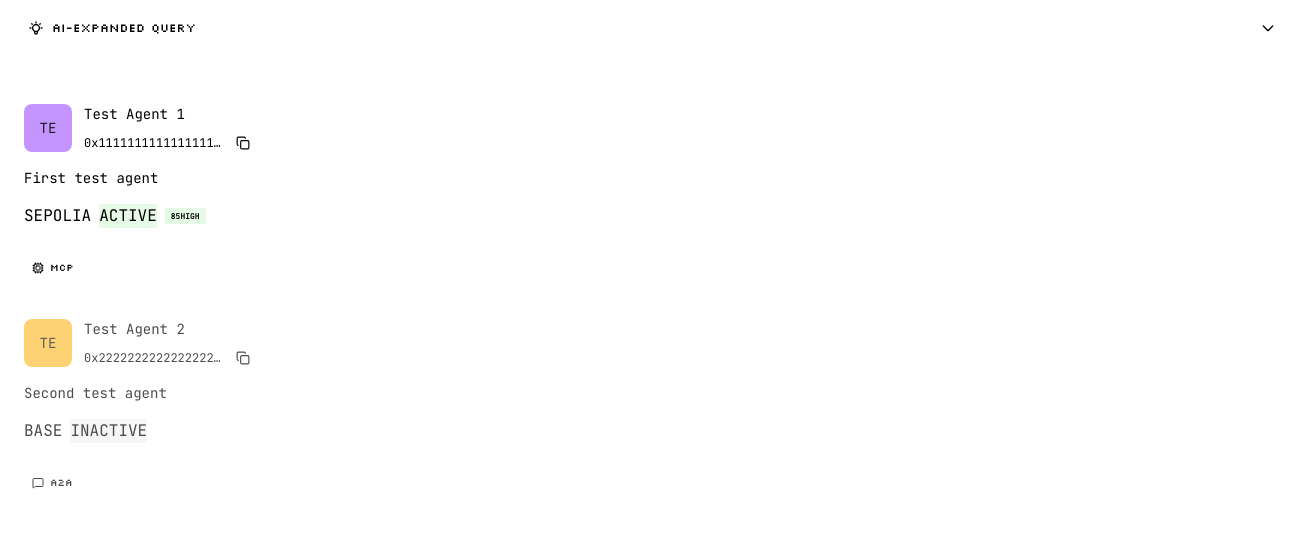
Test: SearchResults › HyDE query display › displays the HyDE query text when expanded
The width and height of the screenshot is (1304, 552).
Click the button with test id "hyde-query-toggle" at {"x": 124, "y": 28}, box 12,12 -> 1292,44
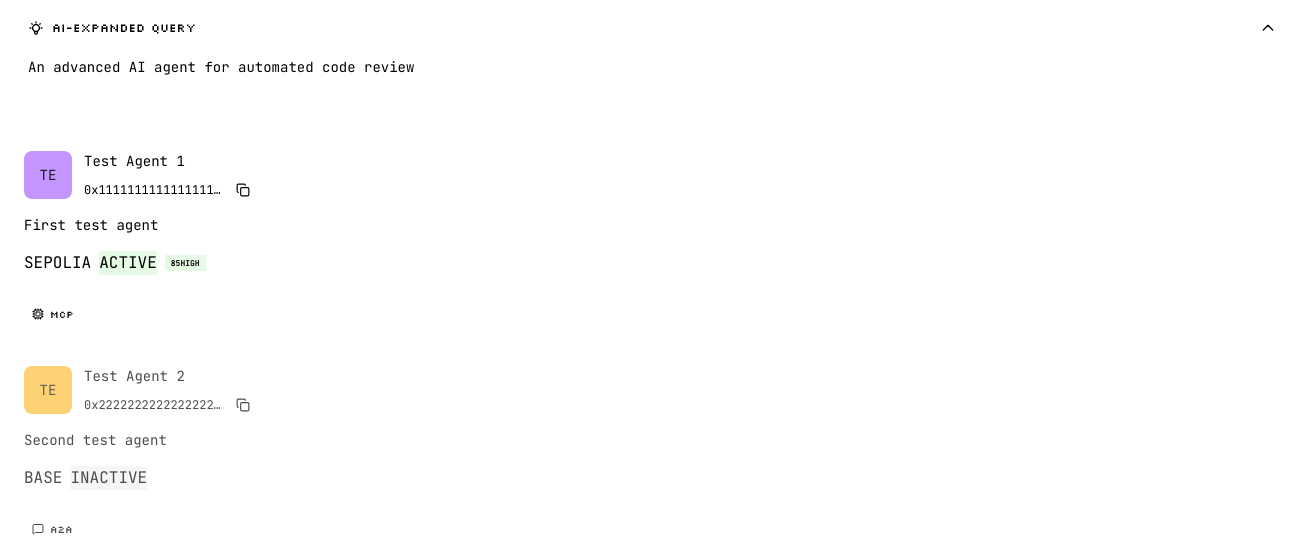
expect the element with test id "hyde-query-content" reads "An advanced AI agent for automated code review": met, box 28,58 -> 414,76
